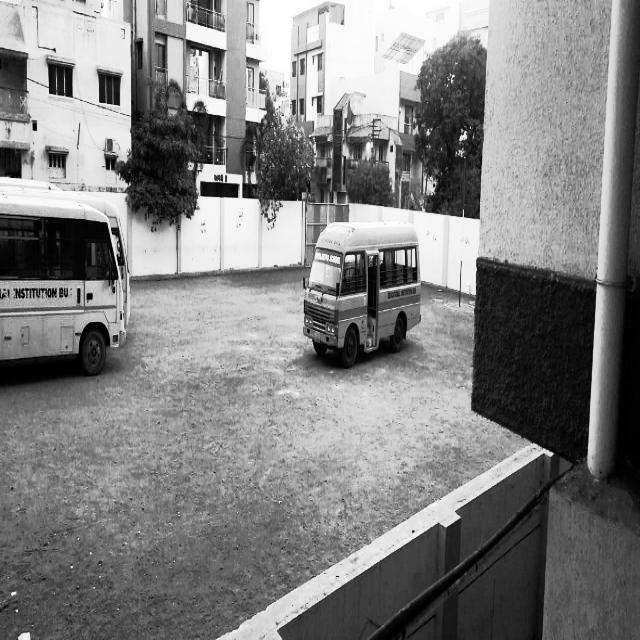Bus: (6, 193, 125, 395), (294, 210, 432, 373), (106, 193, 144, 348)
